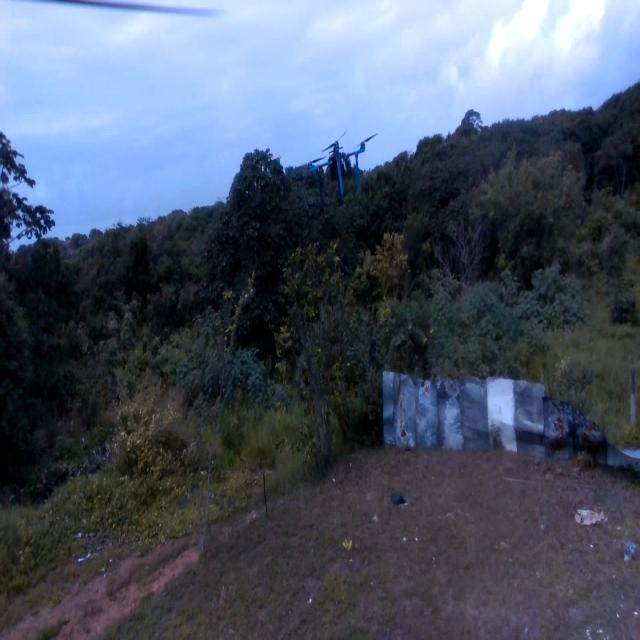-uav-: (302, 132, 376, 225)
